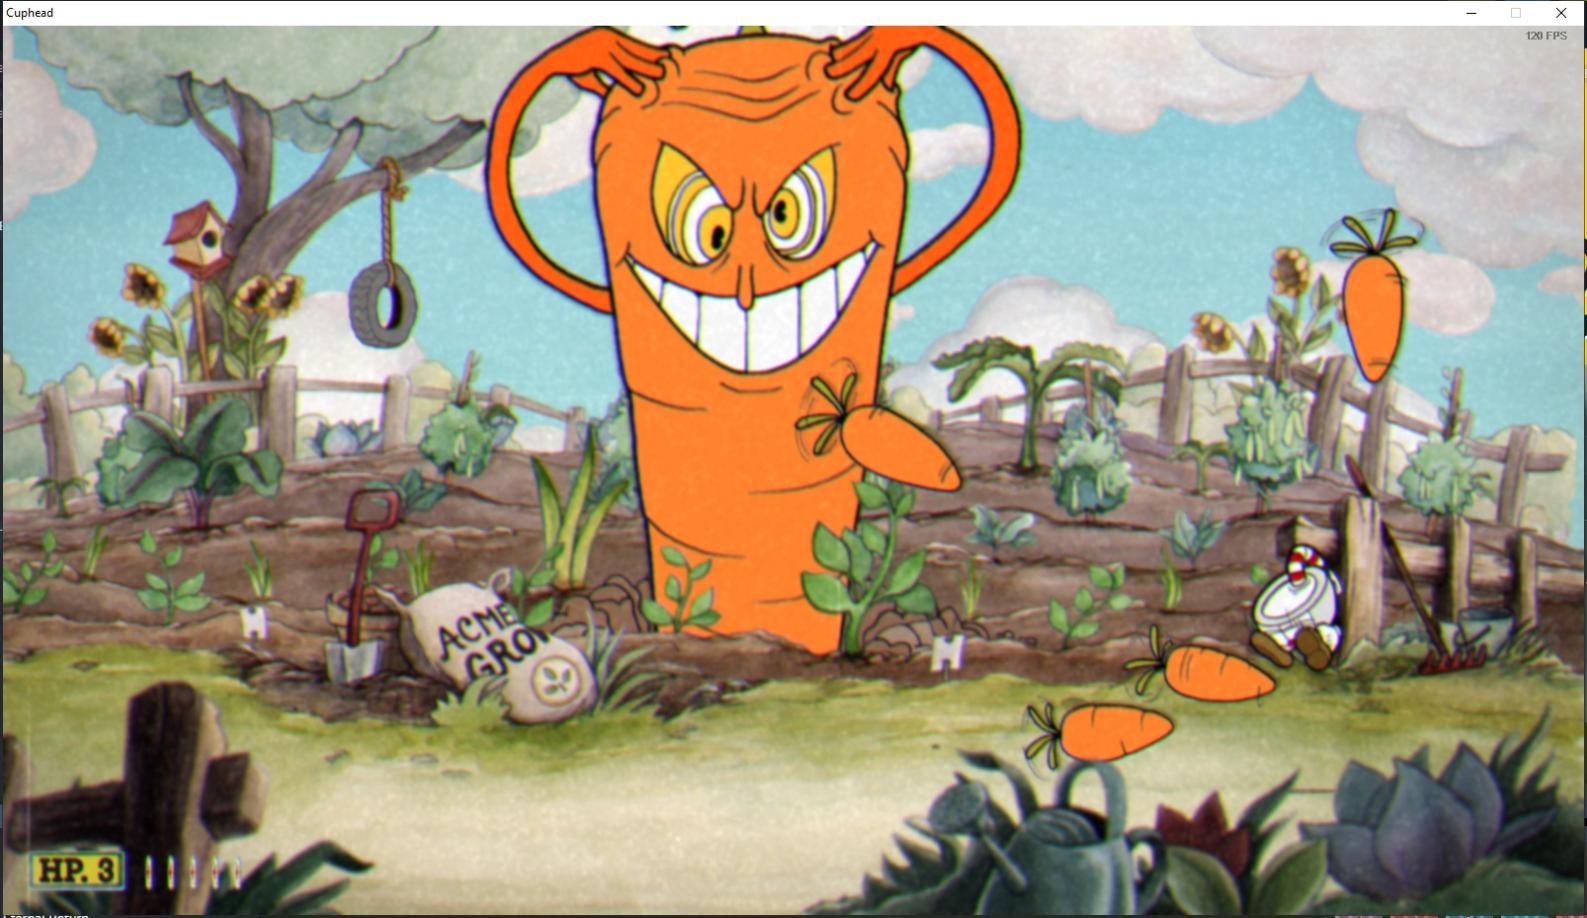carrot: (790, 366, 968, 497), (1323, 197, 1424, 392), (1010, 693, 1182, 771), (1131, 618, 1280, 708)
hp3: (91, 852, 124, 889)
player: (1228, 531, 1362, 679)
